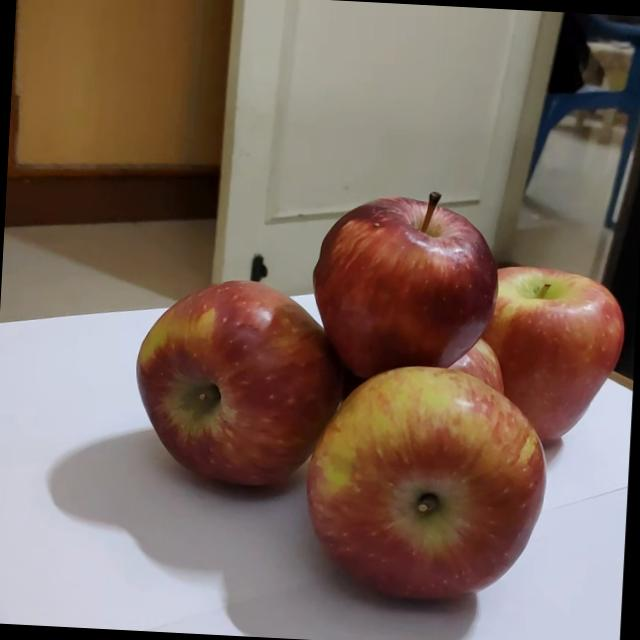apple: (308, 341, 566, 597), (126, 260, 357, 492), (304, 171, 516, 370), (470, 244, 620, 428)
